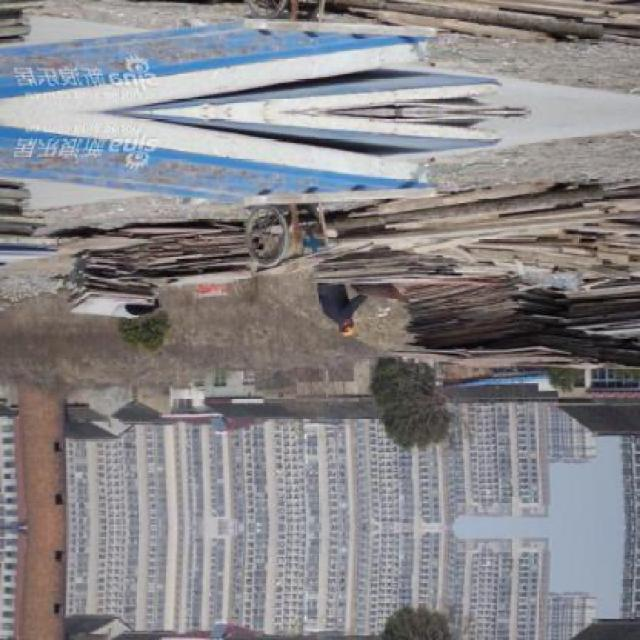con casco: (308, 311, 378, 366)
